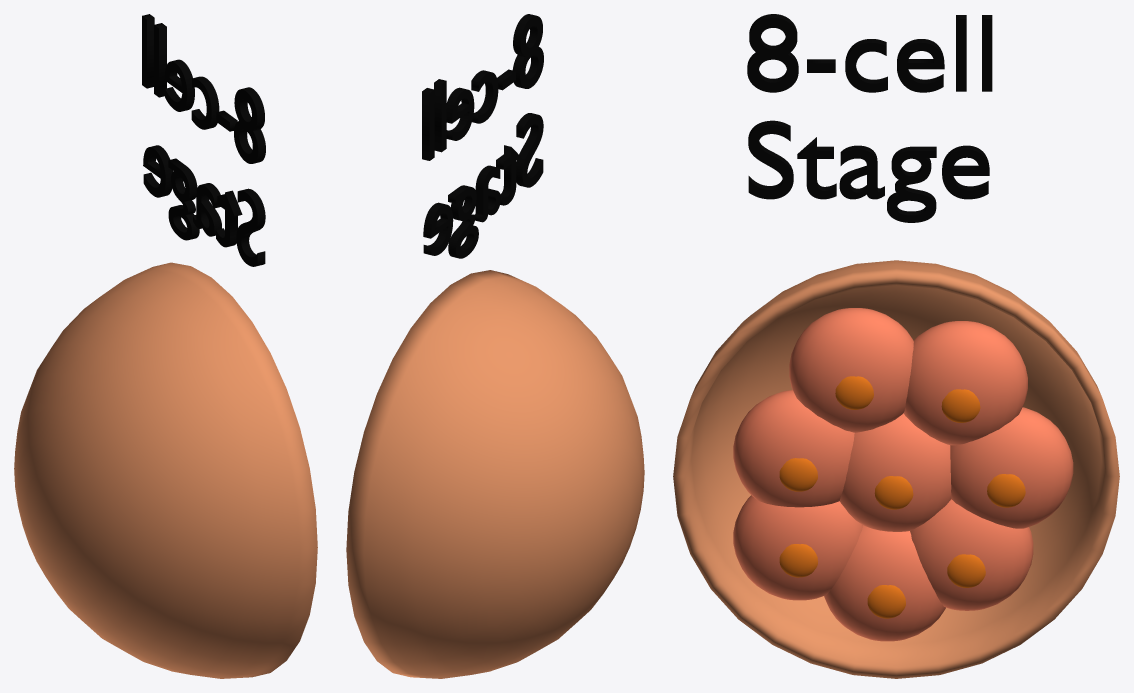
Rendered from (4)8-cell stage.gltf.
3 views of the same model, side by side, from view 1: azimuth 30°, elevation 25°; view 2: azimuth 150°, elevation 25°; view 3: azimuth 270°, elevation 25° (orthographic). The views are drawn at different scales.
Parts seen in each view (by area): view 1: Sphere.021, Text.003; view 2: Sphere.021, Text.003; view 3: Sphere.021, Text.003, Sphere.025, Sphere.027, Sphere.029, Sphere.023, Sphere.037, Sphere.035, Sphere.031, Sphere.033, Sphere.028, Sphere.030 (+6 smaller).
Boxes of the visible parts, <box> form: Sphere.021: <box>14,262,317,678</box>; Text.003: <box>142,14,265,266</box>; Sphere.021: <box>346,270,644,678</box>; Text.003: <box>422,14,543,258</box>; Sphere.021: <box>673,260,1119,678</box>; Text.003: <box>747,14,992,222</box>; Sphere.025: <box>789,308,913,432</box>; Sphere.027: <box>904,321,1027,445</box>; Sphere.029: <box>950,407,1073,528</box>; Sphere.023: <box>733,390,854,507</box>; Sphere.037: <box>733,495,862,600</box>; Sphere.035: <box>840,413,951,531</box>; Sphere.031: <box>910,499,1033,610</box>; Sphere.033: <box>824,525,945,641</box>; Sphere.028: <box>987,474,1025,507</box>; Sphere.030: <box>947,554,985,587</box>.
Size of the model in its own units: 0.8581 by 2.8 by 1.74.
